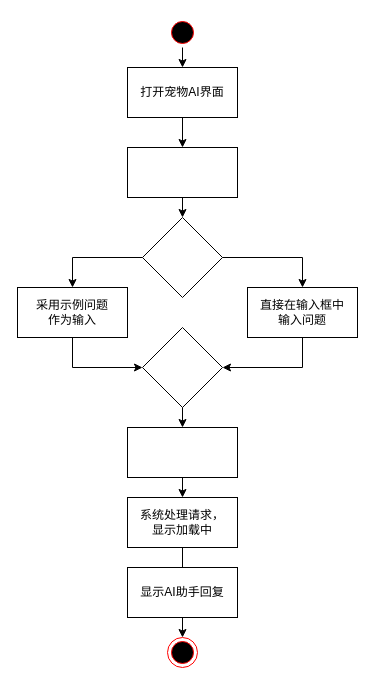
This 375x685 diagram has some shape labels left out. The shapes that lost their labels are listed below. From the top down, each one's box as (x1, y1, x2, y2) in pixels, then its label:
(126, 146, 238, 198): 欢迎界面概览
(126, 426, 238, 478): 点击发送按钮
